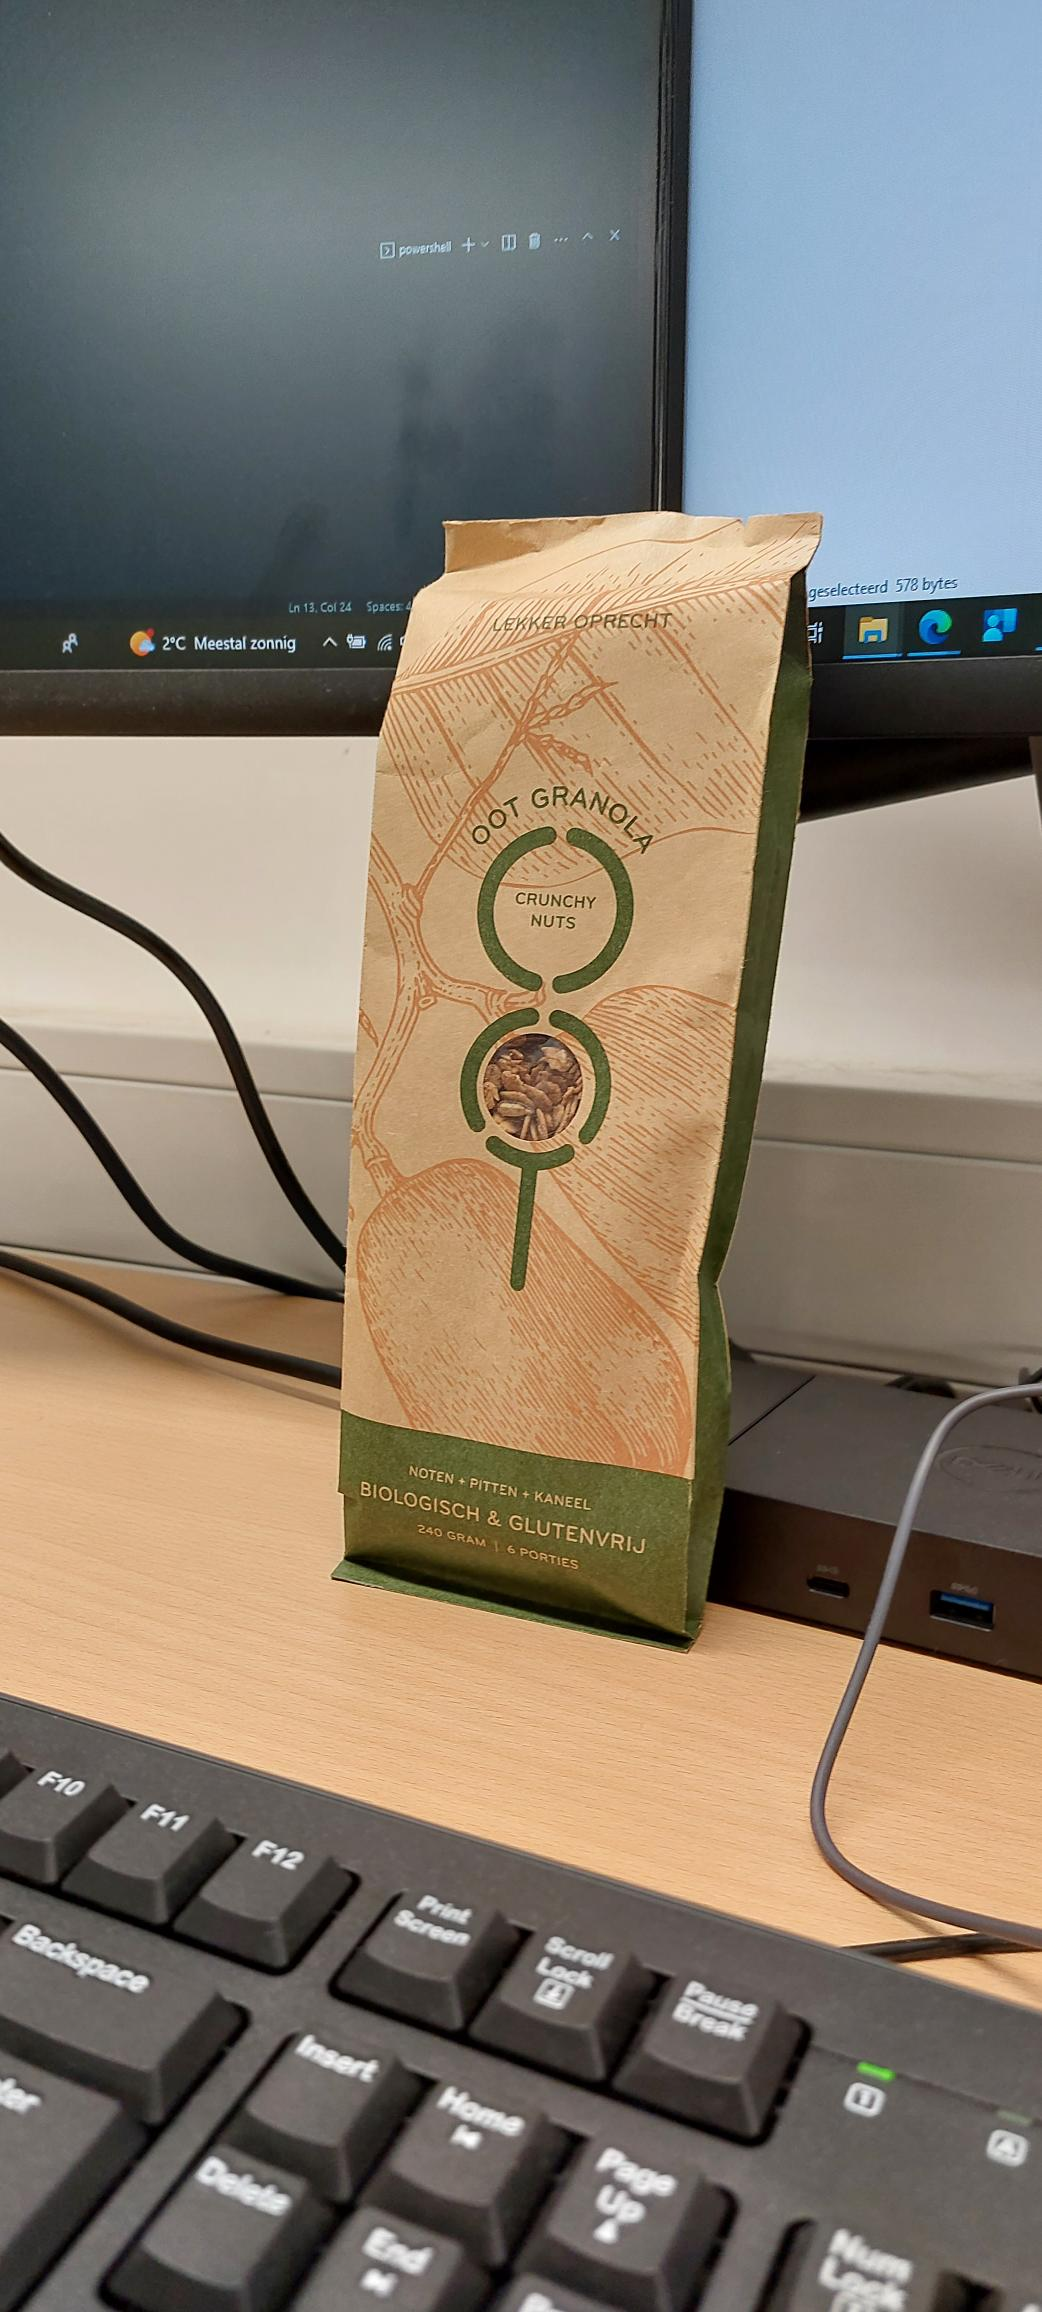CrunchyNuts: (342, 585, 794, 1587)
